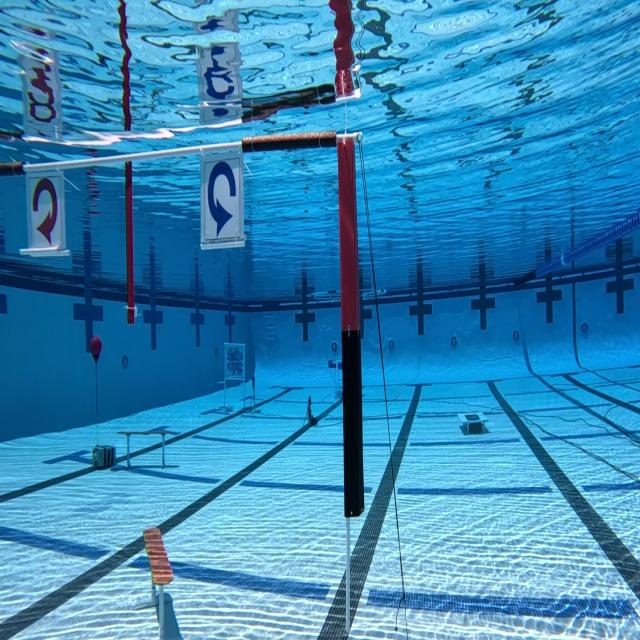blue_side: (202, 152, 245, 249)
red_side: (26, 166, 66, 258)
